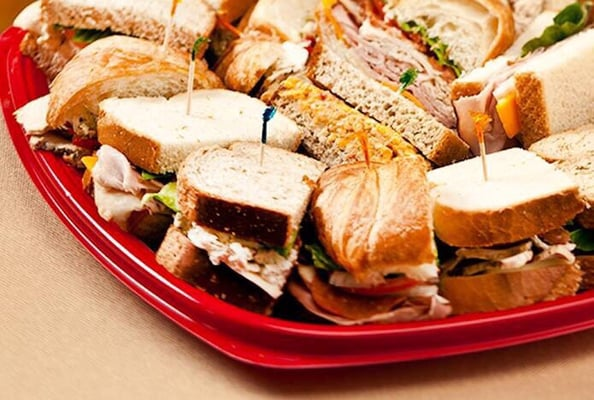soup: (26, 30, 306, 245), (81, 82, 304, 243), (303, 2, 515, 166), (427, 148, 592, 315), (159, 141, 327, 300), (288, 154, 442, 326), (450, 12, 594, 155), (17, 2, 236, 81)
